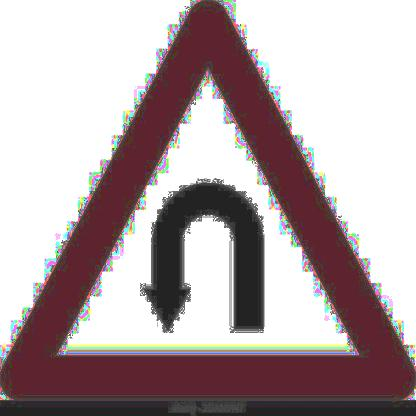U-turn: (20, 0, 416, 404)
